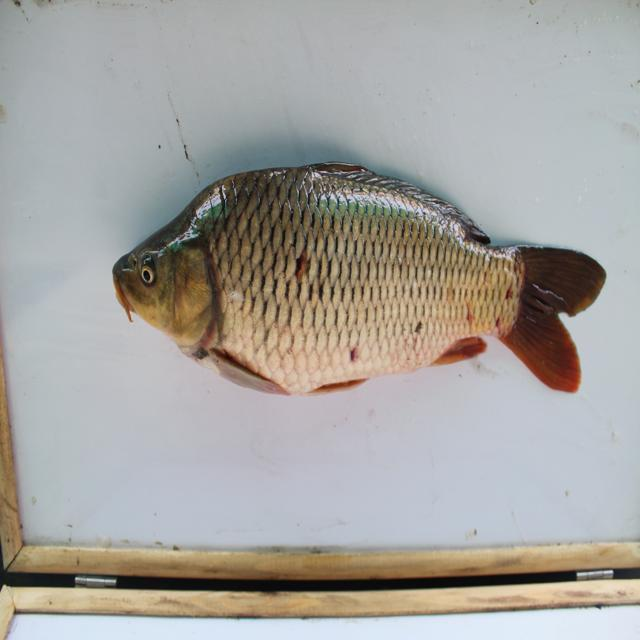CommonCarp: (98, 160, 604, 407)
